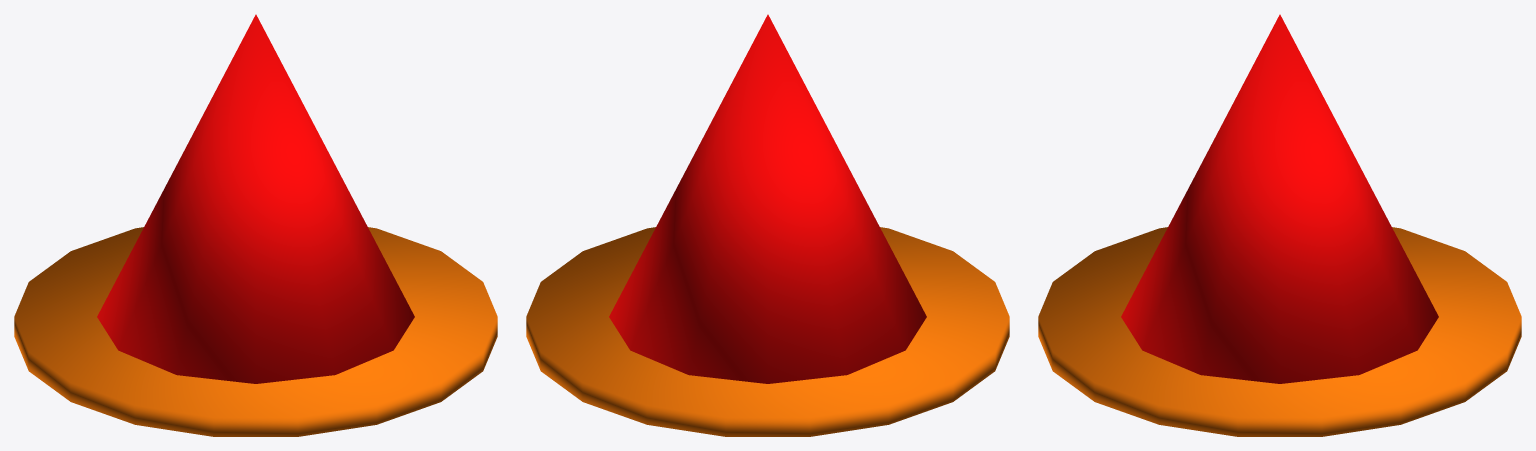
File: Spike.fbx
3 views of the same model, side by side, from view 1: azimuth 30°, elevation 25°; view 2: azimuth 150°, elevation 25°; view 3: azimuth 270°, elevation 25° (orthographic).
Parts seen in each view (by area): view 1: spike.001, spike; view 2: spike.001, spike; view 3: spike.001, spike.
Boxes of the visible parts, left/top/right/bottom form: spike.001: left=97, top=14, right=414, bottom=383; spike: left=14, top=227, right=497, bottom=436; spike.001: left=609, top=14, right=926, bottom=383; spike: left=526, top=227, right=1009, bottom=436; spike.001: left=1121, top=14, right=1438, bottom=383; spike: left=1038, top=227, right=1521, bottom=436.
Size of the model in its own units: 45.3 by 34.07 by 46.
